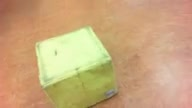cube: (35, 25, 118, 107)
